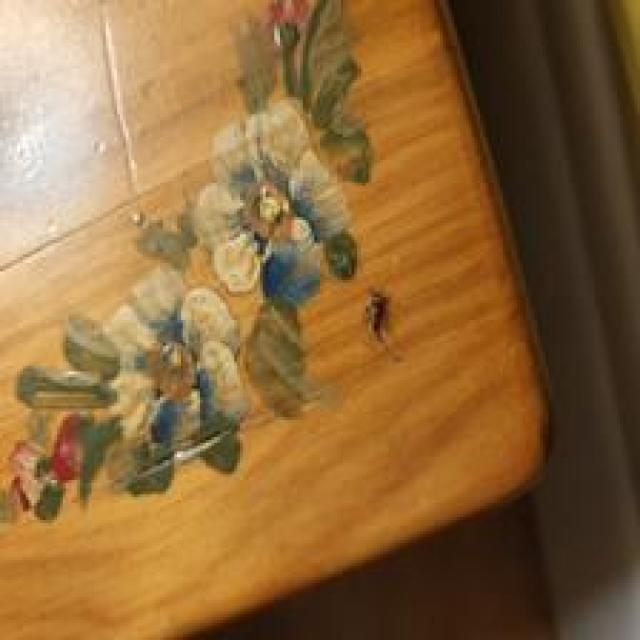Aedes albopictus: (0, 0, 400, 534)
